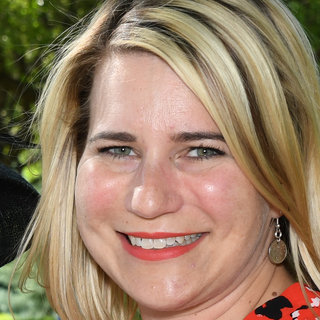eye: (177, 140, 228, 164), (94, 140, 142, 164)
